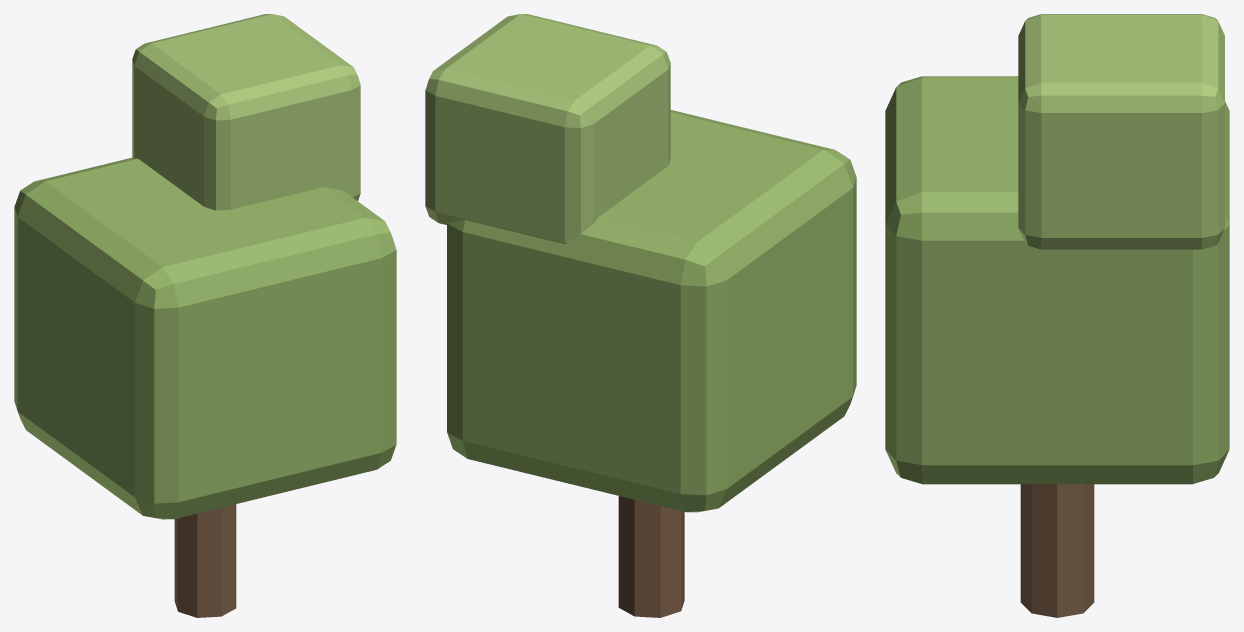
Rendered from tree_round.glb.
3 renders of one model, left to right at view 1: azimuth 30°, elevation 25°; view 2: azimuth 150°, elevation 25°; view 3: azimuth 270°, elevation 25°, orthographic. The views are drawn at different scales.
Parts seen in each view (by area): view 1: Canopy, CanopyTop, Trunk; view 2: Canopy, CanopyTop, Trunk; view 3: Canopy, CanopyTop, Trunk.
Boxes of the visible parts, x1,y1,x2,y2 form: Canopy: [14, 157, 396, 519]; CanopyTop: [132, 14, 360, 210]; Trunk: [174, 504, 236, 617]; Canopy: [447, 110, 856, 512]; CanopyTop: [425, 14, 670, 243]; Trunk: [618, 496, 684, 617]; Canopy: [885, 76, 1229, 484]; CanopyTop: [1018, 14, 1224, 249]; Trunk: [1020, 484, 1094, 617].
Bounding box in the file's own units: 1.6 × 2.85 × 1.5.
